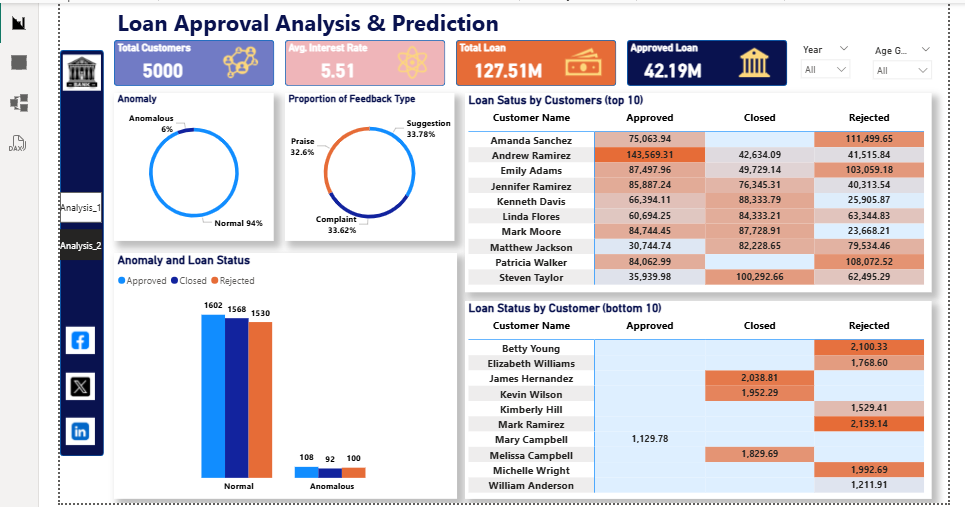

The dashboard page shown, as its layout file describes it:
{"tool":"powerbi","page":{"name":"Analysis_2","canvas":[1280,720],"ordinal":1},"visuals":[{"type":"group","id":"g1","title":"Group 1","box":[77.9,52.9,230.7,66.1],"z":0,"group":"g5"},{"type":"shape","box":[817,52.9,230.7,66.1],"z":0,"group":"g4"},{"type":"slicer","fields":{"Values":["ML_Loan_Predictions_CLEANED.Approval/Rejection Date.Variation.Date Hierarchy.Year"]},"box":[1056.5,52.9,91.1,64.7],"z":0},{"type":"group","id":"g2","title":"Group 2","box":[324.3,52.9,230.7,66.1],"z":1000,"group":"g5"},{"type":"shape","box":[570.6,52.9,230.7,66.1],"z":1000,"group":"g3"},{"type":"shape","box":[0,67.6,63.2,584.8],"z":1000},{"type":"textbox","box":[77.8,0,688.3,54],"z":2000},{"type":"shape","box":[324.3,52.9,230.7,66.1],"z":2000,"group":"g2"},{"type":"group","id":"g3","title":"Group 3","box":[570.1,52.9,231.2,66.1],"z":2000,"group":"g5"},{"type":"shape","box":[77.9,52.9,230.7,66.1],"z":3000,"group":"g1"},{"type":"group","id":"g4","title":"Group 4","box":[817,52.9,230.7,67.6],"z":3000,"group":"g5"},{"type":"actionButton","box":[0,67.6,63.2,64.7],"z":3000},{"type":"card","title":"Total Customers","fields":{"Values":["Count(Customer_Dimension.Customer ID)"]},"box":[77.9,55.8,139.6,63.2],"z":4000,"group":"g1"},{"type":"actionButton","box":[4.4,461.4,55.8,50],"z":4000},{"type":"card","title":"Total Loan","fields":{"Values":["Sum(Loan_Fact_Table.Loan Amount)"]},"box":[570.1,55.8,149.9,63.2],"z":5000,"group":"g3"},{"type":"actionButton","box":[4.4,592.2,55.8,50],"z":5000},{"type":"card","title":"Avg. Interest Rate","fields":{"Values":["Avg(Loan_Dimension.Interest Rate)"]},"box":[324.8,55.8,152.8,63.2],"z":6000,"group":"g2"},{"type":"actionButton","box":[4.4,526.8,55.8,50],"z":6000},{"type":"card","title":"Approved Loan","fields":{"Values":["Account_Dimension.Total Loan Approved"]},"box":[817,55.8,132.2,64.7],"z":7000,"group":"g4"},{"type":"donutChart","title":"Anomaly","fields":{"Y":["CountNonNull(Annomaly_Dimension.Anormaly ID)"],"Category":["Annomaly_Dimension.Anomaly Type"]},"box":[77.3,129.4,230.1,213.3],"z":7000},{"type":"donutChart","title":"Proportion of Feedback Type","fields":{"Category":["Feedback+Type_ID.Feedback Type"],"Y":["Count(Feedback_Fact_Table.Feedback ID)"]},"box":[324.2,129.4,243.6,213.3],"z":8000},{"type":"clusteredColumnChart","title":"Anomaly and Loan Status","fields":{"Y":["CountNonNull(ML_Loan_Predictions_CLEANED.Loan ID)"],"Category":["ML_Loan_Predictions_CLEANED.Anomaly"],"Series":["ML_Loan_Predictions_CLEANED.Loan Status"]},"box":[77.9,360,493.7,354.1],"z":9000},{"type":"pivotTable","title":"Loan Satus by Customers (top 10)","fields":{"Rows":["Customer_Dimension.Customer Name"],"Values":["Sum(Loan_Fact_Table.Loan Amount)"],"Columns":["Loan_Dimension.Loan Status"]},"box":[583.3,128.9,671.5,286.5],"z":10000},{"type":"pivotTable","title":"Loan Status by Customer (bottom 10)","fields":{"Rows":["Customer_Dimension.Customer Name"],"Values":["Sum(Loan_Fact_Table.Loan Amount)"],"Columns":["Loan_Dimension.Loan Status"]},"box":[583.3,429.1,671.5,285.1],"z":11000},{"type":"group","id":"g5","title":"Group 5","box":[77.9,52.9,969.8,67.6],"z":12000},{"type":"pageNavigator","box":[0,271.8,60.2,99.9],"z":13000},{"type":"slicer","fields":{"Values":["Customer_Dimension.Age Group"]},"box":[1160.6,54.7,105.1,64.8],"z":14000},{"type":"textbox","box":[77.8,0,584.6,53.3],"z":15000},{"type":"actionButton","box":[476.1,52.9,69.1,64.7],"z":15000,"group":"g2"},{"type":"actionButton","box":[968.3,52.9,69.1,64.7],"z":16000,"group":"g4"},{"type":"actionButton","box":[721.4,52.9,69.1,64.7],"z":17000,"group":"g3"},{"type":"actionButton","box":[227.8,52.9,69.1,64.7],"z":18000,"group":"g1"}]}

Visuals, with their boxes on the page's 1280x720 design canvas (x1, y1, x2, y2). These are canvas units, not pixel positions in the 965x507 screenshot, which may show the page scaled, cropped or inside an application window:
"Group 1" group: box(78, 53, 309, 119)
shape: box(817, 53, 1048, 119)
slicer - ML_Loan_Predictions_CLEANED.Approval/Rejection Date.Variation.Date Hierarchy.Year: box(1056, 53, 1148, 118)
"Group 2" group: box(324, 53, 555, 119)
shape: box(571, 53, 801, 119)
shape: box(0, 68, 63, 652)
textbox: box(78, 0, 766, 54)
shape: box(324, 53, 555, 119)
"Group 3" group: box(570, 53, 801, 119)
shape: box(78, 53, 309, 119)
"Group 4" group: box(817, 53, 1048, 120)
actionButton: box(0, 68, 63, 132)
"Total Customers" card: box(78, 56, 218, 119)
actionButton: box(4, 461, 60, 511)
"Total Loan" card: box(570, 56, 720, 119)
actionButton: box(4, 592, 60, 642)
"Avg. Interest Rate" card: box(325, 56, 478, 119)
actionButton: box(4, 527, 60, 577)
"Approved Loan" card: box(817, 56, 949, 120)
"Anomaly" donutChart: box(77, 129, 307, 343)
"Proportion of Feedback Type" donutChart: box(324, 129, 568, 343)
"Anomaly and Loan Status" clusteredColumnChart: box(78, 360, 572, 714)
"Loan Satus by Customers (top 10)" pivotTable: box(583, 129, 1255, 415)
"Loan Status by Customer (bottom 10)" pivotTable: box(583, 429, 1255, 714)
"Group 5" group: box(78, 53, 1048, 120)
pageNavigator: box(0, 272, 60, 372)
slicer - Customer_Dimension.Age Group: box(1161, 55, 1266, 120)
textbox: box(78, 0, 662, 53)
actionButton: box(476, 53, 545, 118)
actionButton: box(968, 53, 1037, 118)
actionButton: box(721, 53, 790, 118)
actionButton: box(228, 53, 297, 118)
